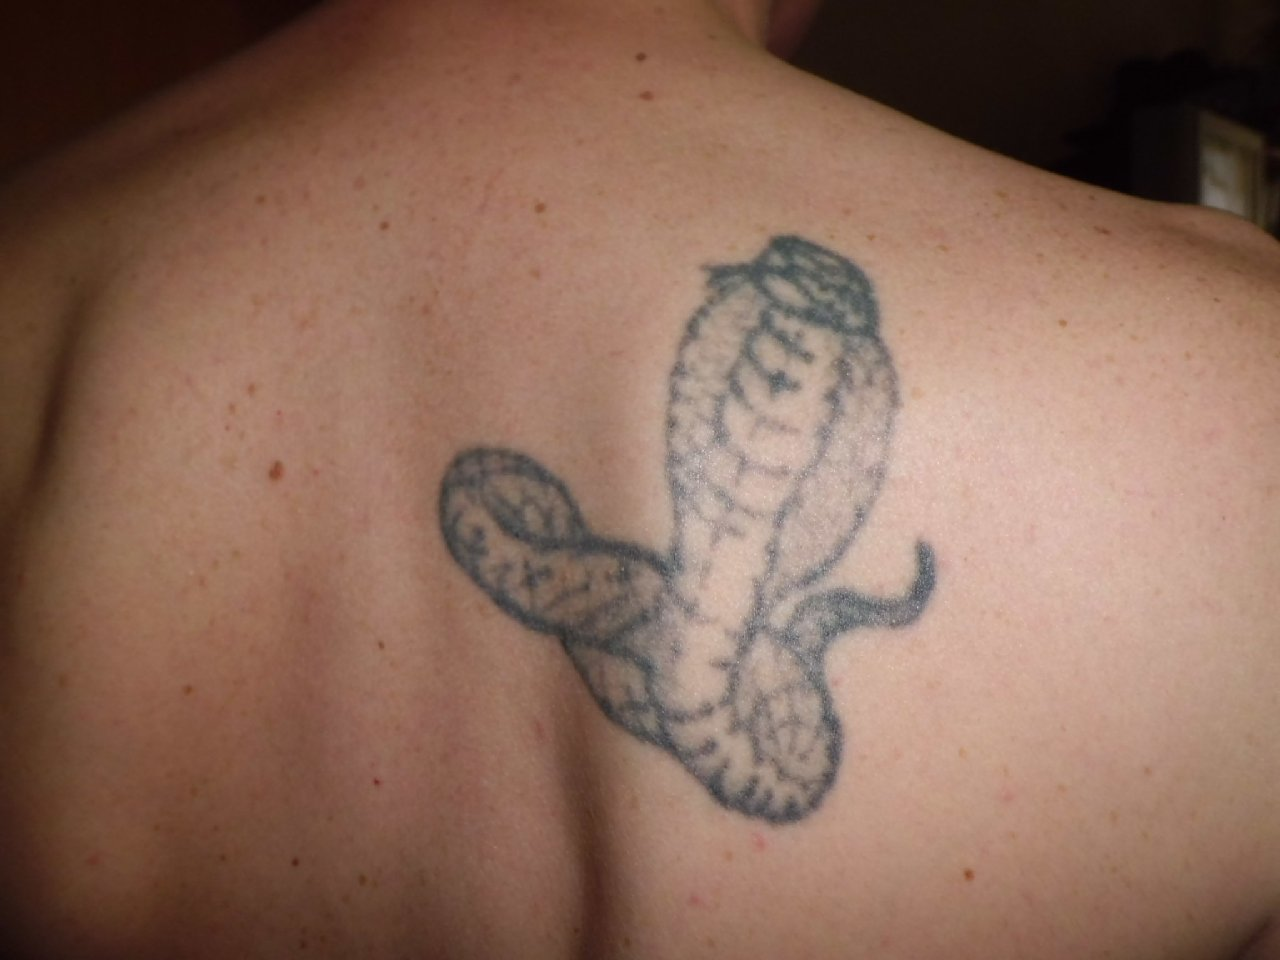tatu7_zmeya: (414, 120, 1057, 820)
